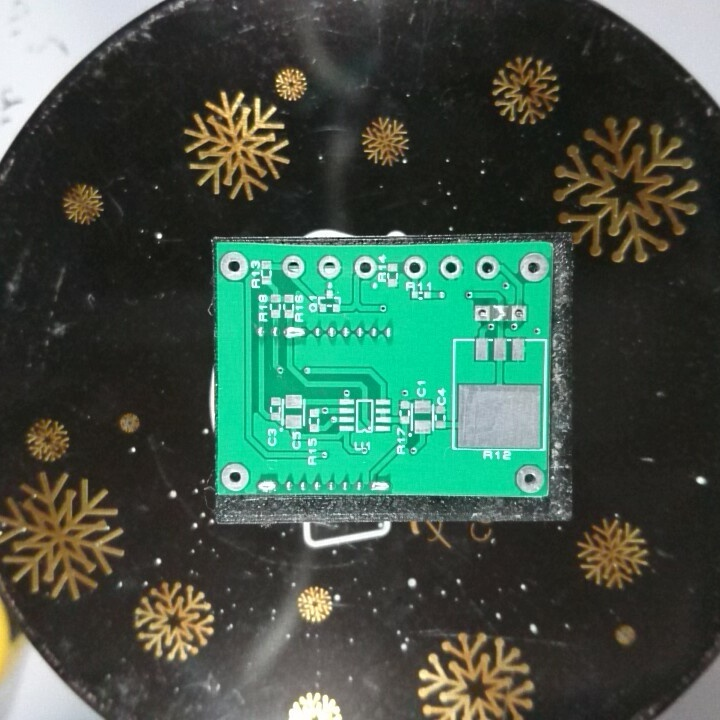F: (517, 249, 550, 287), (216, 250, 250, 286), (218, 460, 253, 492), (512, 463, 546, 495), (437, 252, 465, 286), (400, 253, 430, 283), (314, 254, 345, 283), (473, 253, 501, 283), (279, 254, 308, 280), (350, 255, 379, 280), (508, 301, 530, 325), (470, 303, 491, 328)
P: (280, 323, 310, 344), (368, 478, 392, 494), (256, 478, 278, 492)
